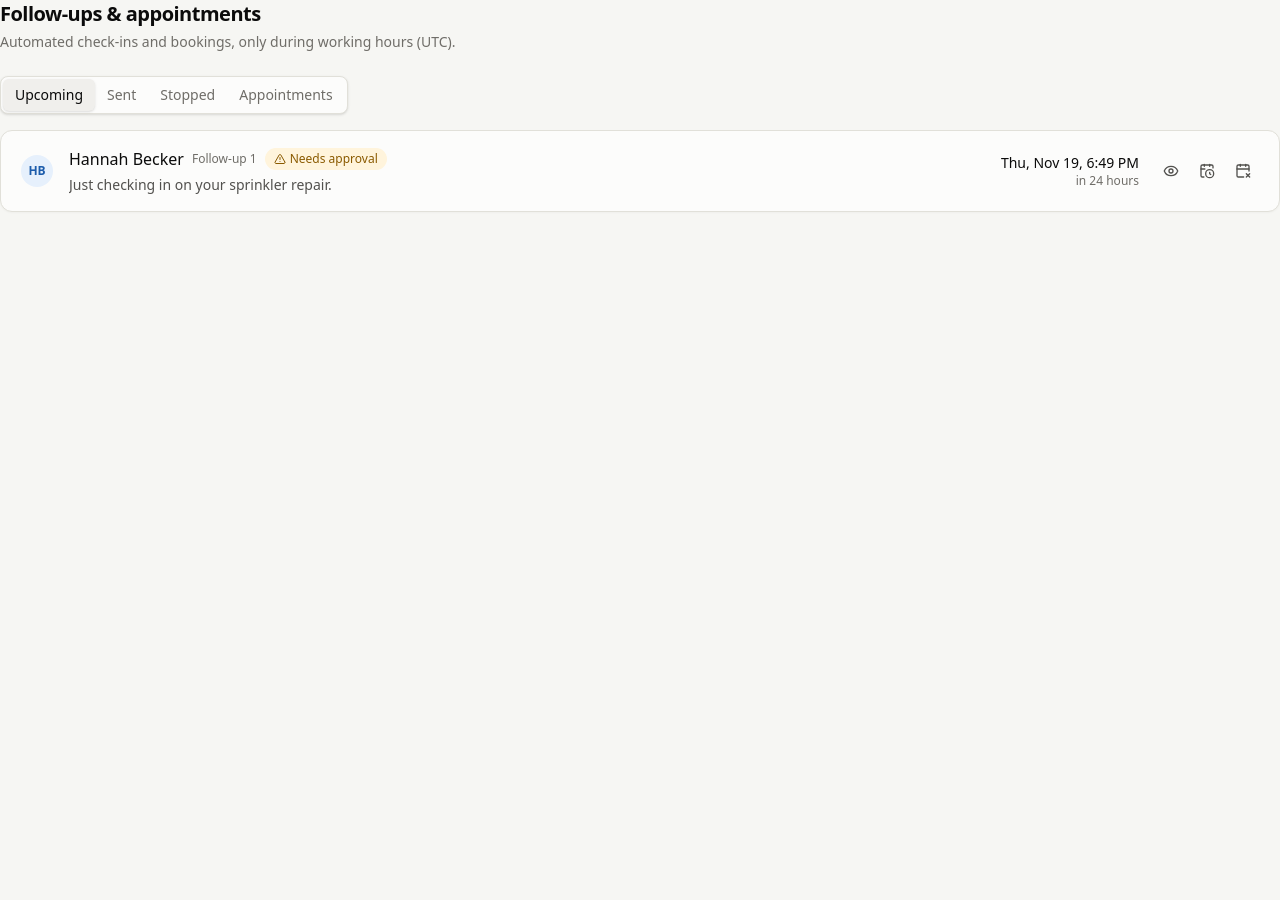
Test: Follow-ups › cancels a follow-up with a reason
Click the button named "Cancel follow-up to Hannah Becker" at (1243, 171), box [1227,155,1259,187]
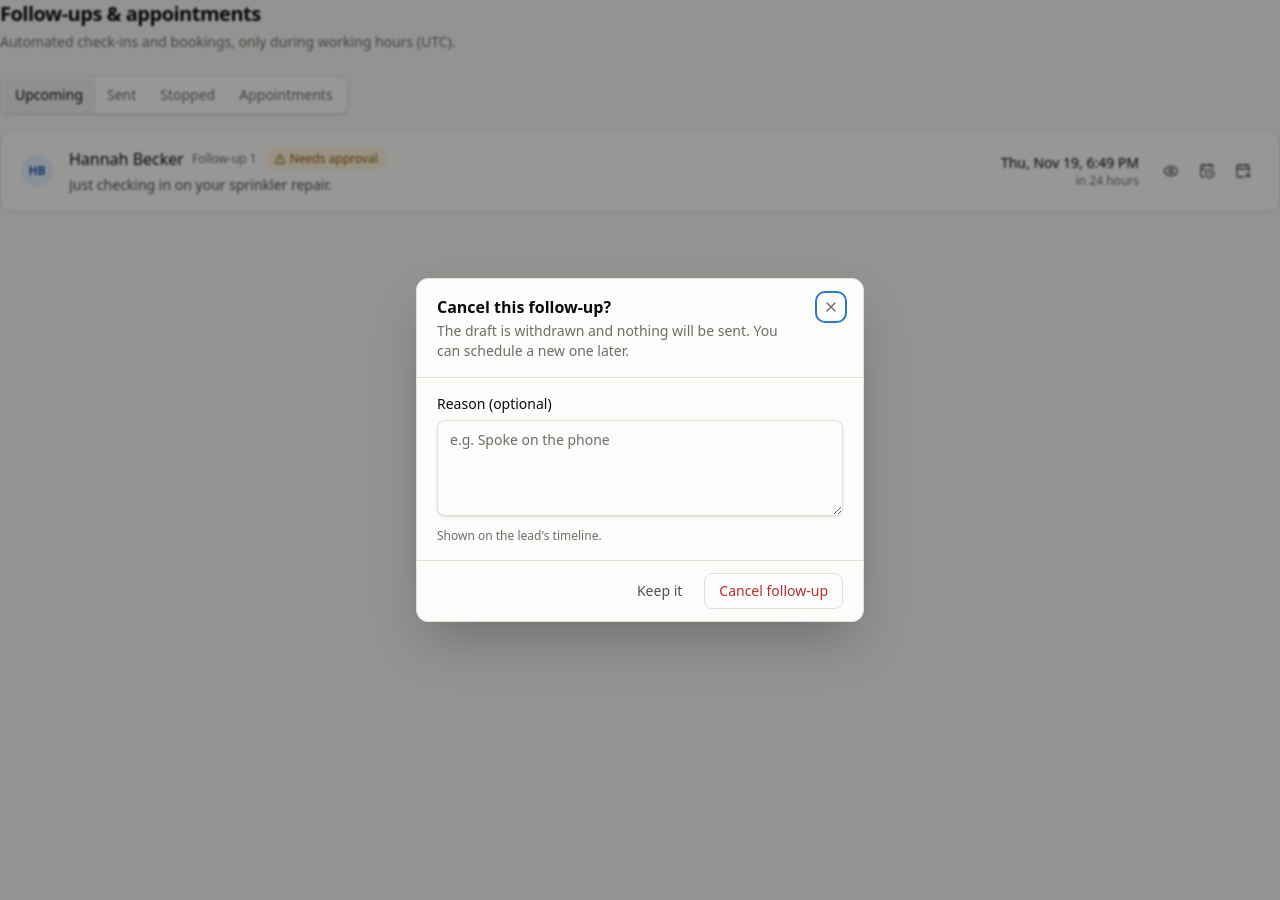
Type "Spoke on the phone" into the text box labelled "Reason (optional)" at (640, 468), box [437,420,843,516]
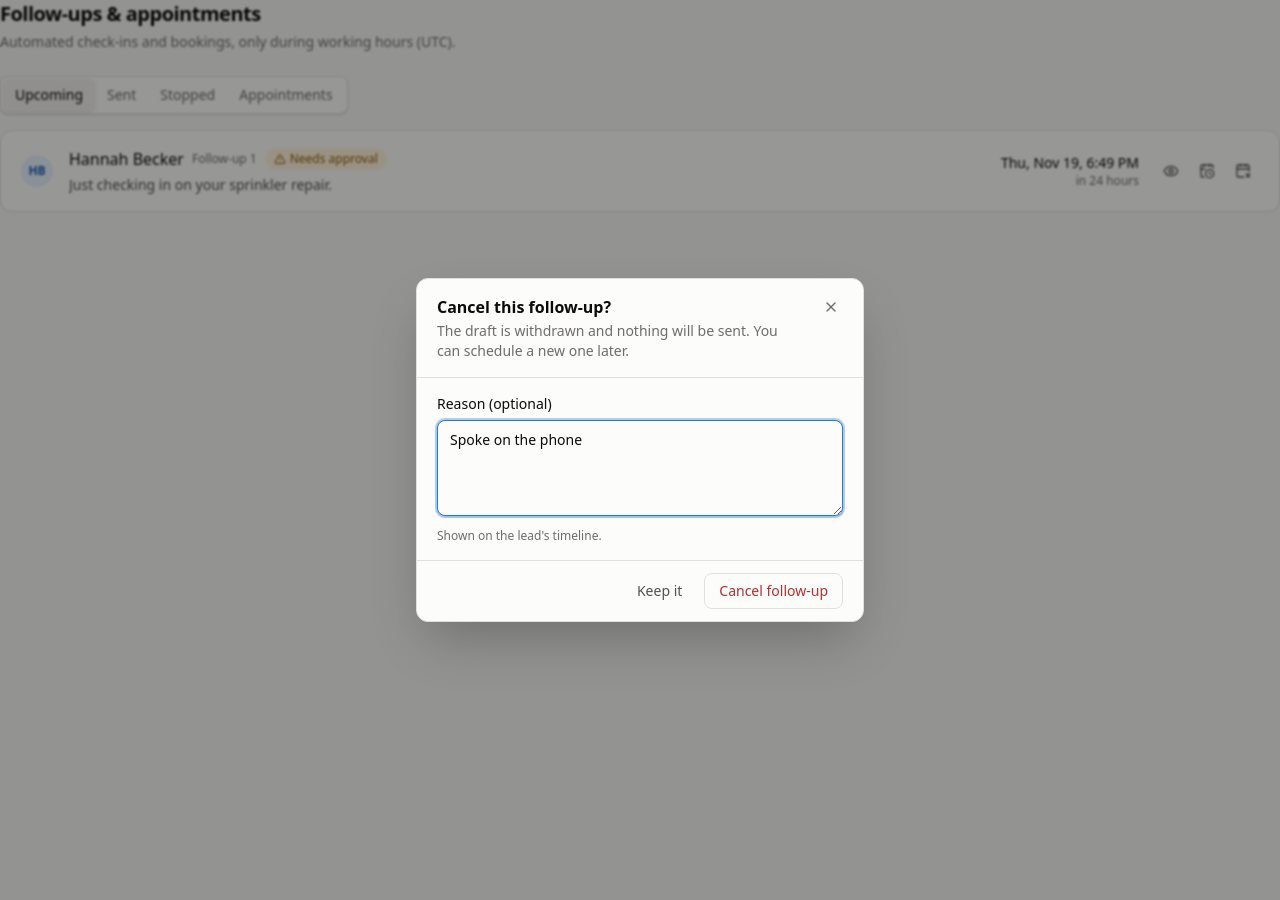
Click the button "Cancel follow-up" at (774, 591), box [704,573,843,609]
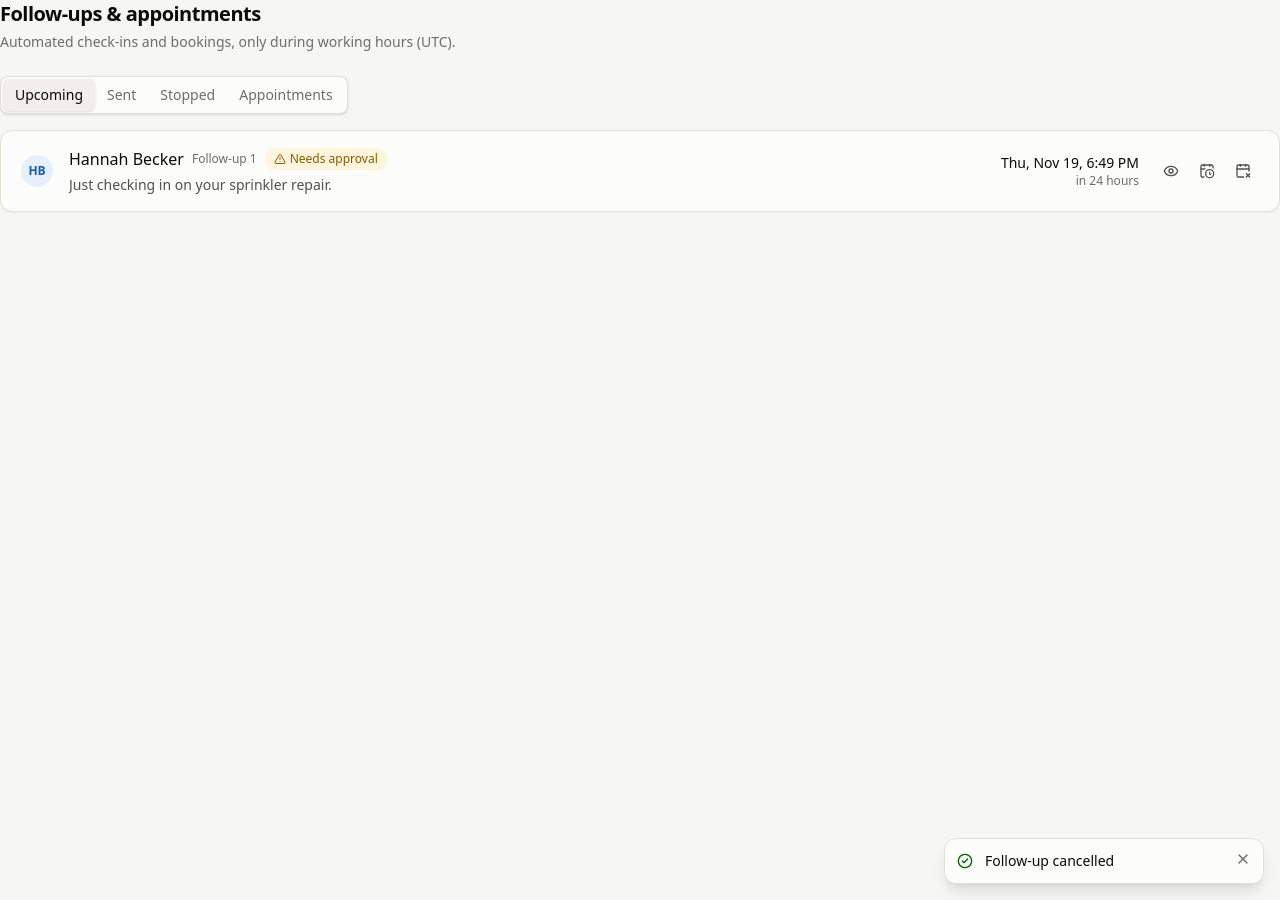
Check: the text "Follow-up cancelled" is shown, box [985,851,1114,870]
